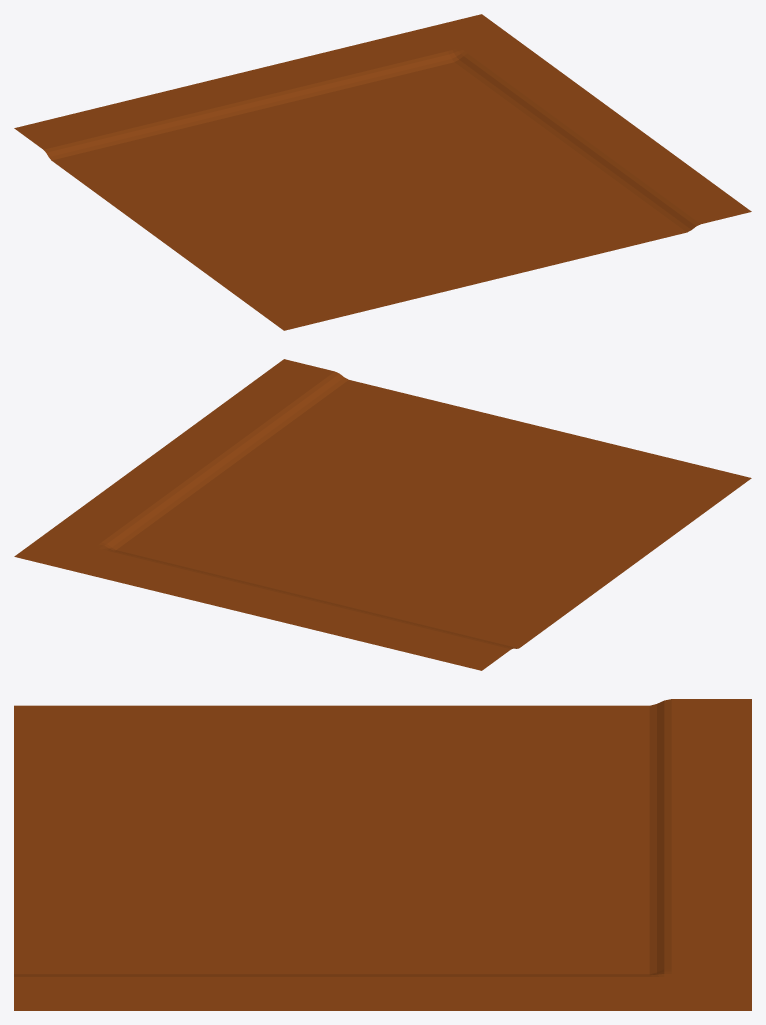
The model's file is Terrain_Part_Plane_19.glb.
3 views of the same model, one above another, from view 1: azimuth 30°, elevation 25°; view 2: azimuth 150°, elevation 25°; view 3: azimuth 270°, elevation 25° (orthographic). The views are drawn at different scales.
Visible parts, largest first — view 1: Terrain_Part_Plane_19.001; view 2: Terrain_Part_Plane_19.001; view 3: Terrain_Part_Plane_19.001.
Boxes of the visible parts, <box> form: Terrain_Part_Plane_19.001: <box>14,14,751,330</box>; Terrain_Part_Plane_19.001: <box>14,359,751,670</box>; Terrain_Part_Plane_19.001: <box>14,699,751,1010</box>.
Bounding box in the file's own units: 20 × 0.2 × 20.
